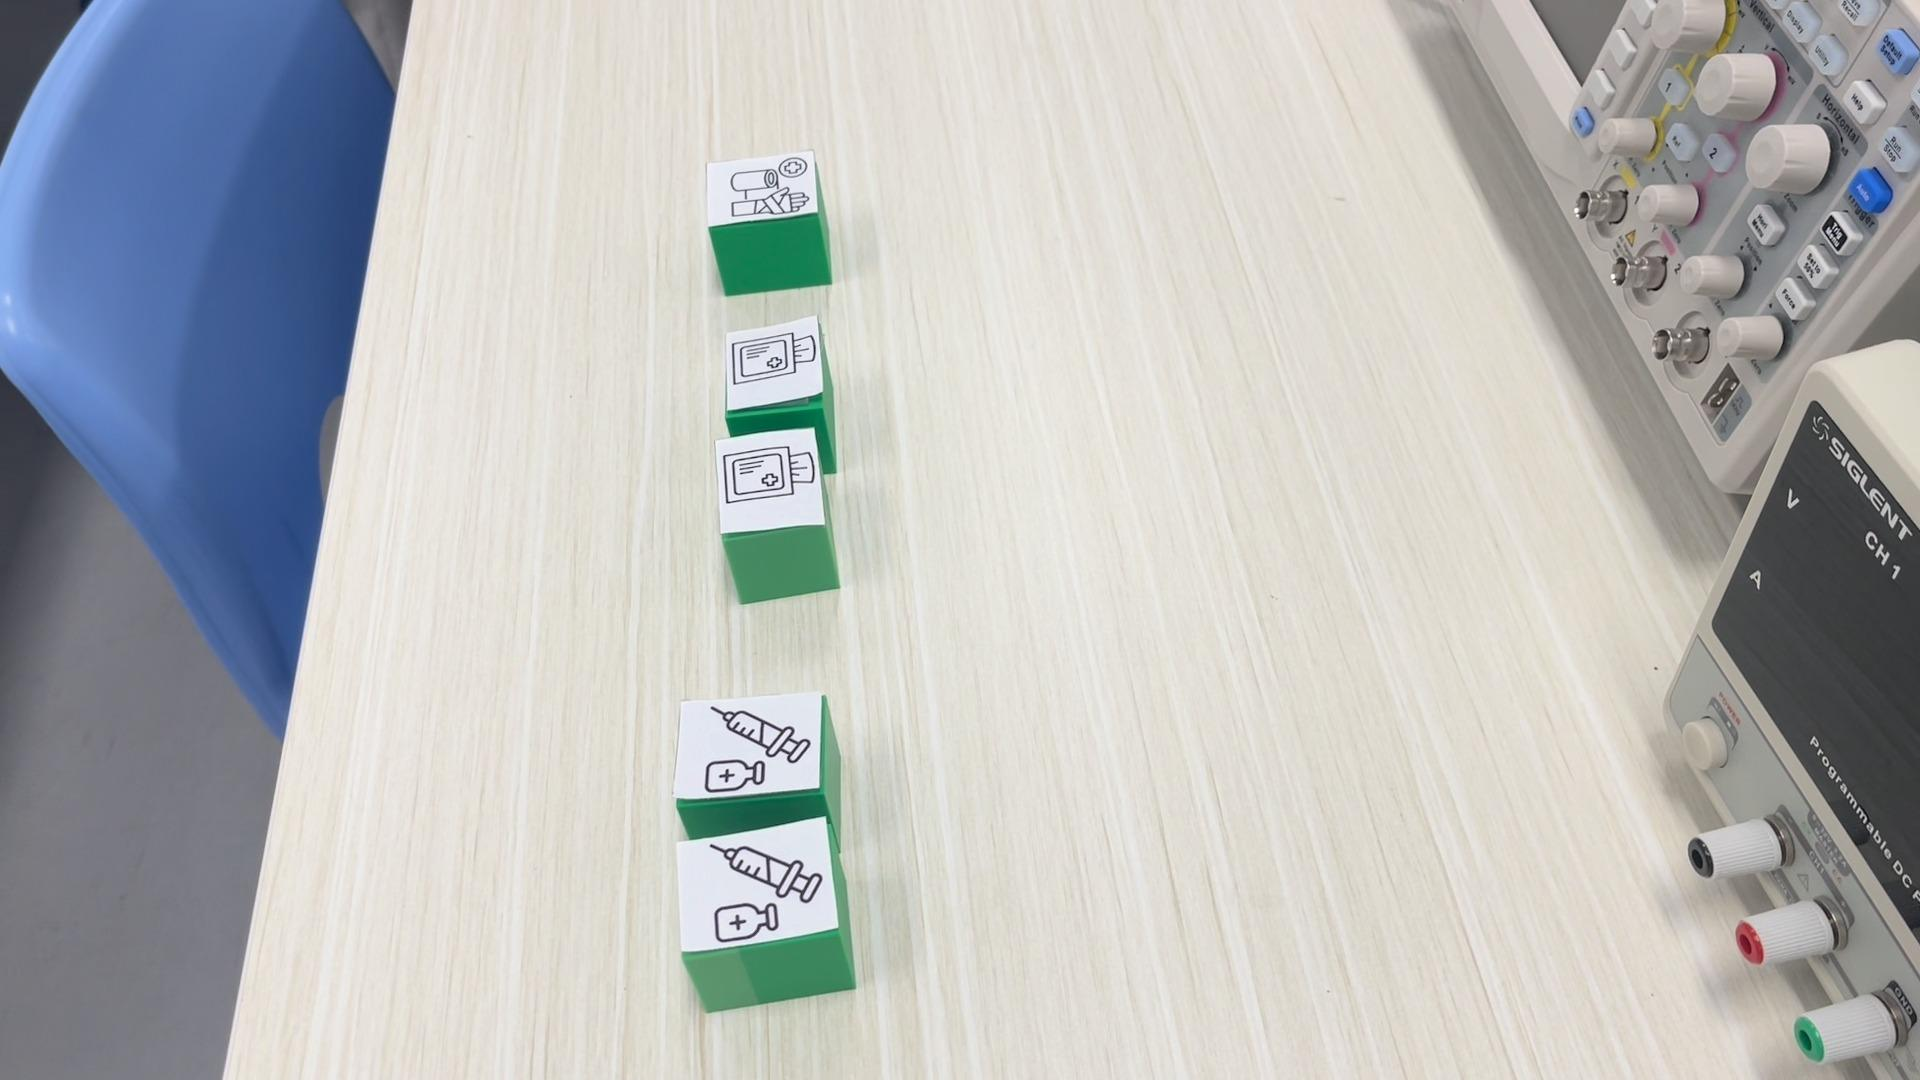Bandages: (705, 145, 835, 295)
Gauze: (719, 425, 843, 604), (725, 314, 837, 434)
antiseptic cream: (678, 819, 857, 1013), (673, 690, 837, 837)
